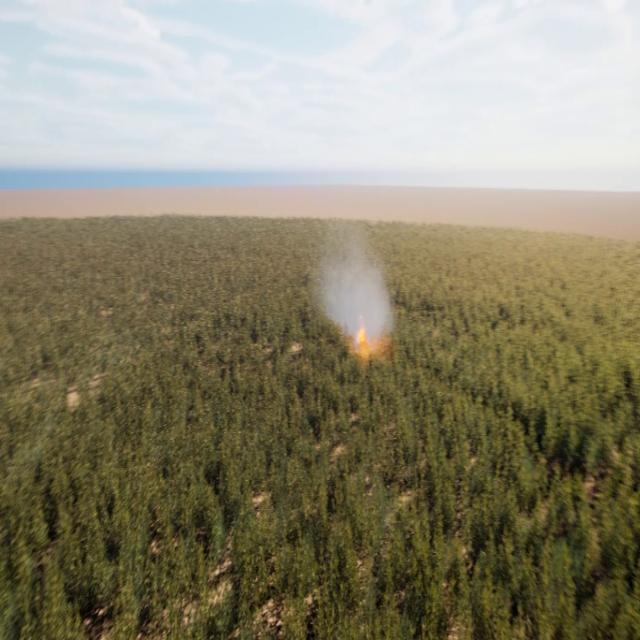fire: (354, 322, 383, 353)
smoke: (315, 228, 397, 350)
